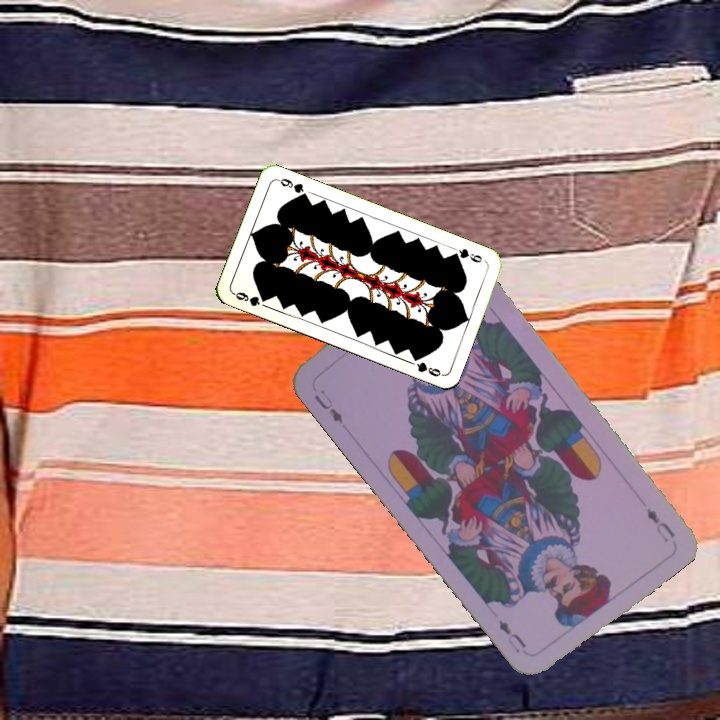EU: (309, 385, 346, 427), (642, 504, 678, 545)
G9: (229, 288, 271, 309), (448, 244, 488, 265)
